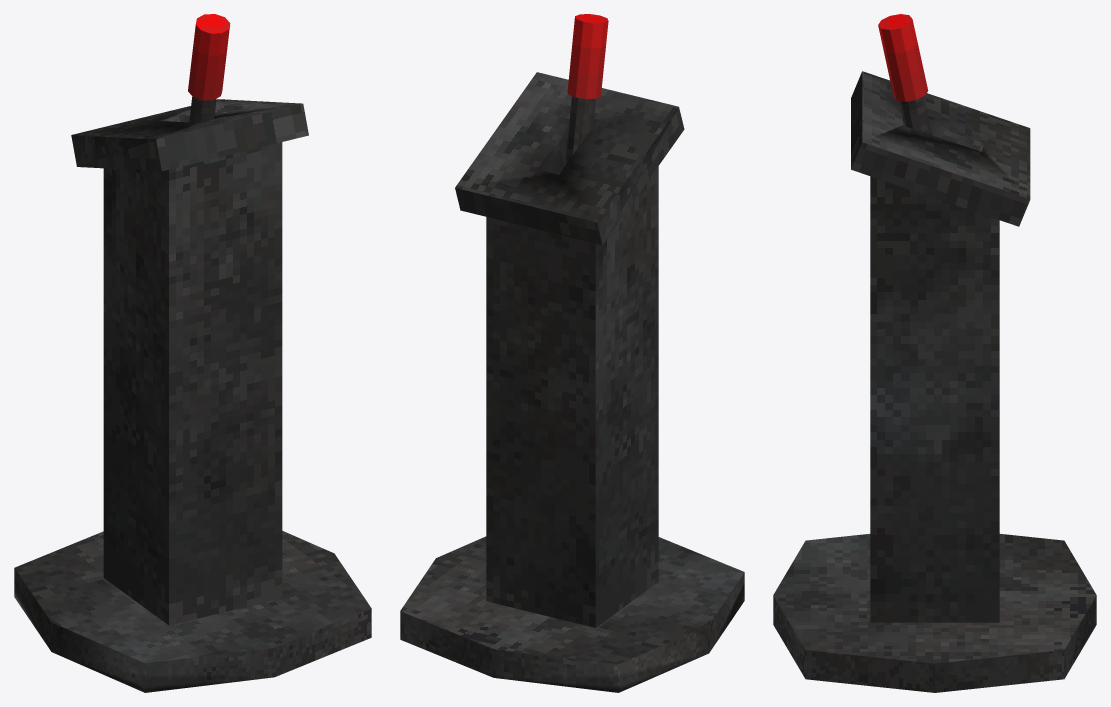
Rendered from lever.glb.
The picture shows the model from 3 angles, left to right: view 1: azimuth 30°, elevation 25°; view 2: azimuth 150°, elevation 25°; view 3: azimuth 270°, elevation 25°; orthographic projection. The views are drawn at different scales.
Visible parts, largest first — view 1: Base, Lever; view 2: Base, Lever; view 3: Base, Lever.
Part boxes in pixels (x1=…): Base: x1=14, y1=99, x2=371, y2=692; Lever: x1=188, y1=14, x2=230, y2=122; Base: x1=400, y1=72, x2=744, y2=692; Lever: x1=565, y1=14, x2=608, y2=165; Base: x1=773, y1=71, x2=1096, y2=692; Lever: x1=878, y1=14, x2=931, y2=134.
Size of the model in its own units: 2 by 4.13 by 2.
2 materials, 2 textured.
